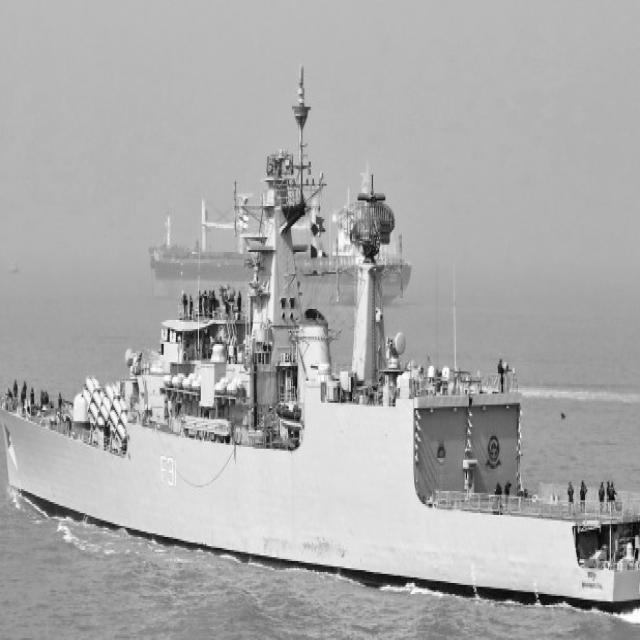Fragata: (1, 53, 640, 623)
